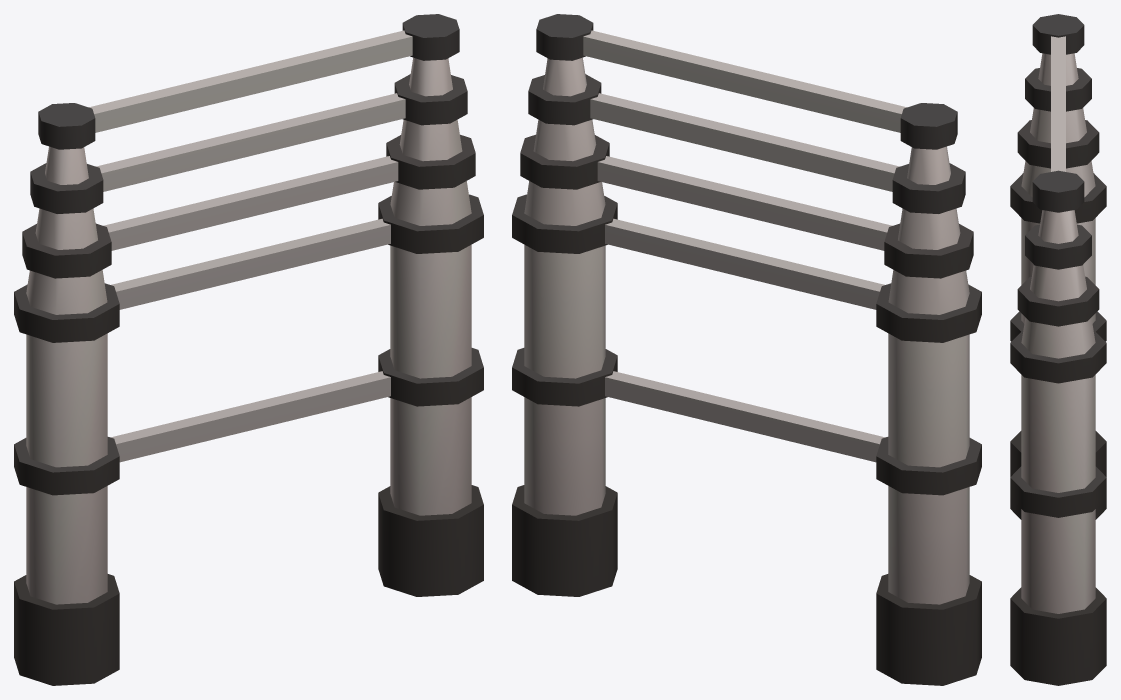
File: telescopic_ladder.glb
3 views of the same model, side by side, from view 1: azimuth 30°, elevation 25°; view 2: azimuth 150°, elevation 25°; view 3: azimuth 270°, elevation 25° (orthographic). The views are drawn at different scales.
Parts seen in each view (by area): view 1: telescopic_ladder3; view 2: telescopic_ladder3; view 3: telescopic_ladder3.
Part boxes in pixels (x1=…): telescopic_ladder3: x1=14, y1=14, x2=483, y2=685; telescopic_ladder3: x1=512, y1=14, x2=981, y2=685; telescopic_ladder3: x1=1010, y1=14, x2=1106, y2=685.
Bounding box in the file's own units: 0.7437 × 0.85 × 0.1535.
Materials: 1 (1 with a texture image).
